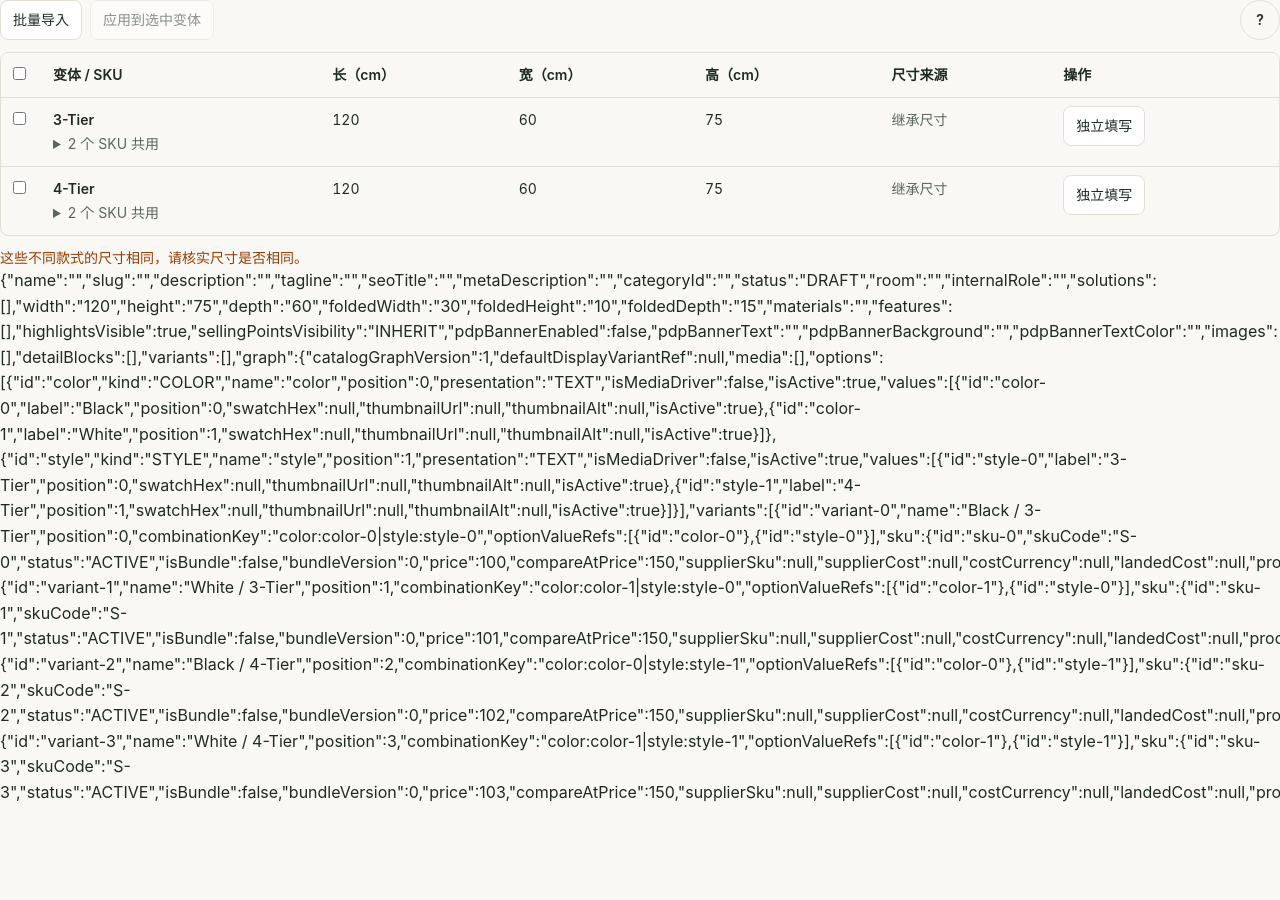
Test: ProductDimensionTable › gives the convention controls concise accessible names
What coordinates should you click on to do the following:
click the button "批量导入"
I would click on:
 (41, 20)
Its box is [0,0,82,40].
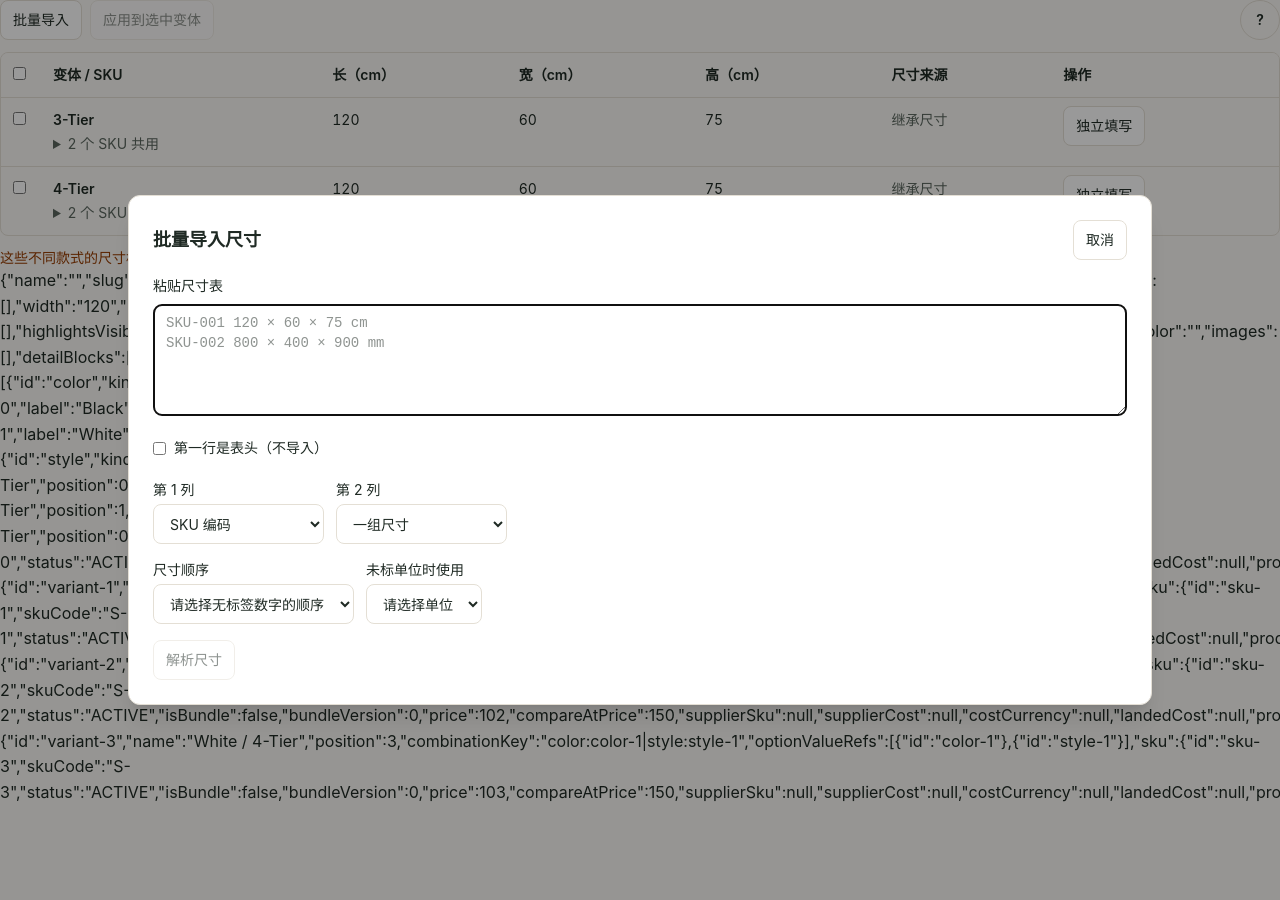
Expected: the dropdown labelled "尺寸顺序" is shown, [153,584,354,624]
Expected: the dropdown labelled "未标单位时使用" is shown, [366,584,482,624]
